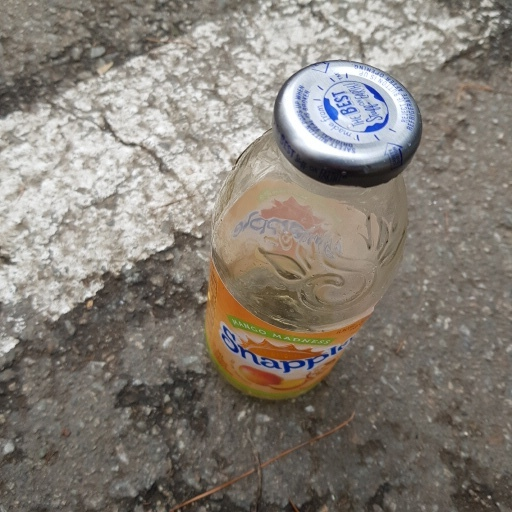Glass_4: (199, 58, 423, 413)
